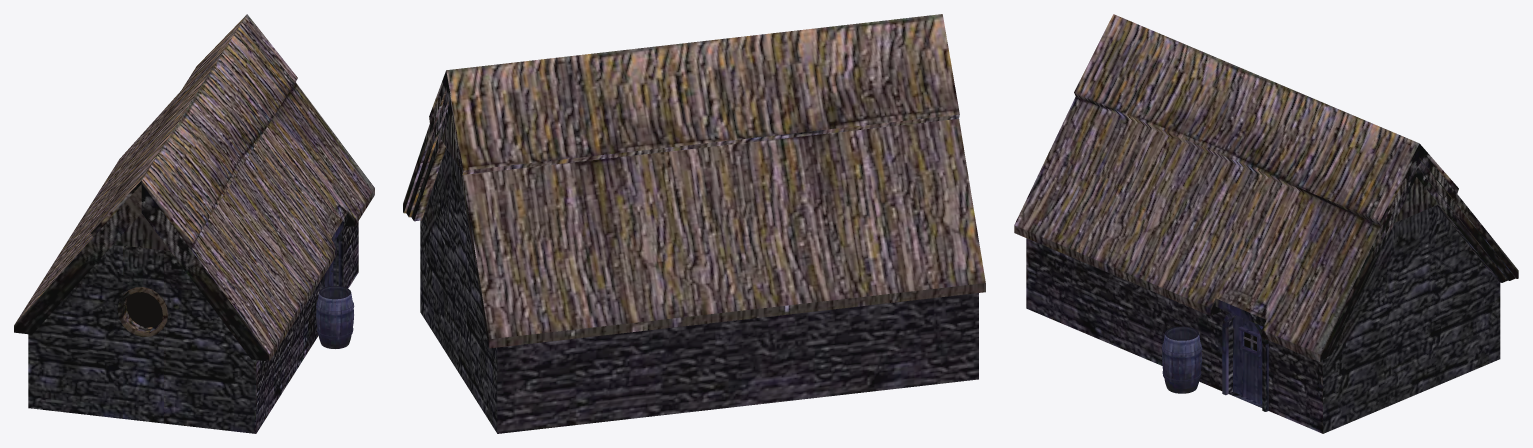
File: house-east_textured.glb
The picture shows the model from 3 angles, left to right: view 1: azimuth 30°, elevation 25°; view 2: azimuth 150°, elevation 25°; view 3: azimuth 270°, elevation 25°; orthographic projection. The views are drawn at different scales.
Visible parts, largest first — view 1: roofs, walls, frames, openings; view 2: roofs, walls; view 3: roofs, walls, frames.
Part boxes in pixels (x1,y1,x2,y2): roofs: (14,14,374,361); walls: (28,221,358,433); frames: (117,229,343,337); openings: (126,292,162,327); roofs: (403,14,985,348); walls: (420,148,978,433); roofs: (1014,14,1518,362); walls: (1026,205,1500,433); frames: (1222,313,1268,411).
Bounding box in the file's own units: 7.27 × 4.08 × 7.27.
2 materials, 1 textured.
